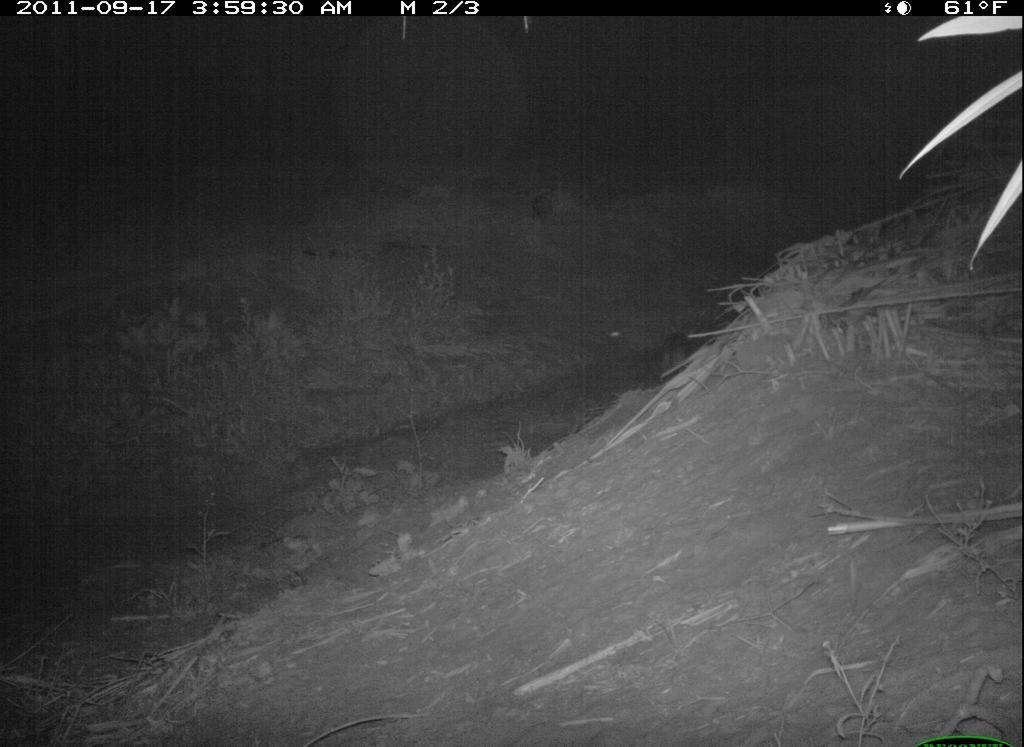coyote: (655, 321, 699, 383)
